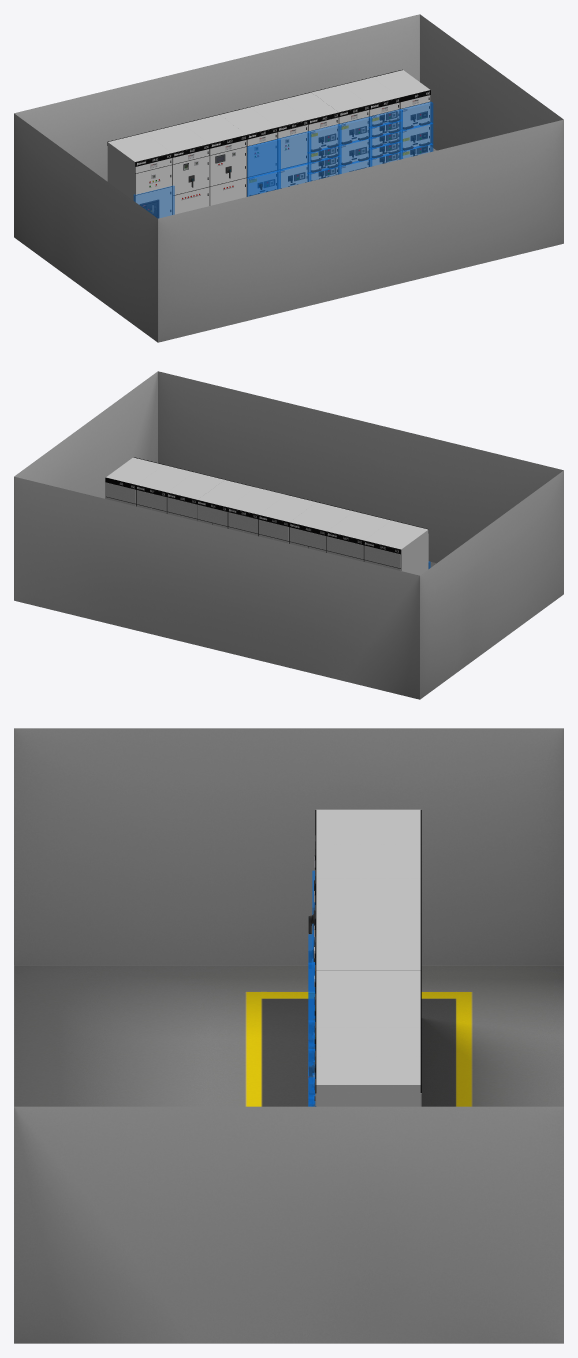
The model's file is demo.obj.
The picture shows the model from 3 angles, top to bottom: view 1: azimuth 30°, elevation 25°; view 2: azimuth 150°, elevation 25°; view 3: azimuth 270°, elevation 25°; orthographic projection. The views are drawn at different scales.
Parts seen in each view (by area): view 1: wall, object1, object3, object2, object9, object5, object4, object7, object6, object8, A1BC4ZCDXYZL008_show, A1BC4ZCDXYZL003_show (+19 smaller); view 2: wall, object1, object3, object2, object4, object9, object6, object5, object7, object8; view 3: wall, floor, object9, object2, object1, object3, object4, object5, object7, object8, object6.
Part boxes in pixels (x1,y1,x2,y2): wall: (14,14,563,342); object1: (107,132,172,201); object3: (182,114,247,205); object2: (145,123,210,214); object9: (372,69,430,151); object5: (250,99,308,168); object4: (219,107,277,177); object7: (311,84,369,123); object6: (280,92,339,131); object8: (342,77,400,116); A1BC4ZCDXYZL008_show: (277,131,311,171); A1BC4ZCDXYZL003_show: (247,139,280,178); wall: (14,371,563,699); object1: (363,520,428,575); object3: (289,502,354,552); object2: (326,511,391,561); object4: (258,494,316,543); object9: (105,457,163,506); object6: (197,479,255,528); object5: (227,487,286,536); object7: (166,472,225,521); object8: (136,464,194,513); wall: (14,728,563,1343); floor: (14,965,563,1106); object9: (314,1056,421,1106); object2: (308,844,421,944); object1: (314,809,421,869); object3: (309,879,421,962); object4: (314,913,421,957); object5: (314,942,421,986); object7: (314,999,421,1043); object8: (314,1028,421,1072); object6: (314,971,421,1015).
Size of the model in its own units: 879 by 257 by 540.
